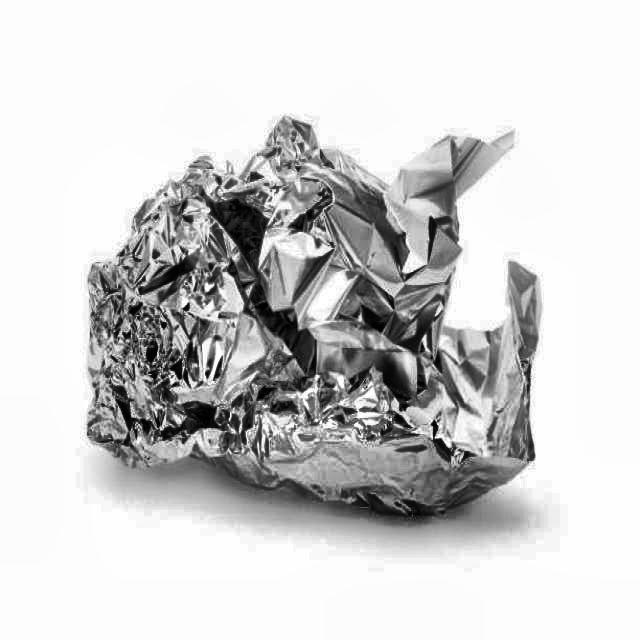metal: (85, 118, 540, 518)
